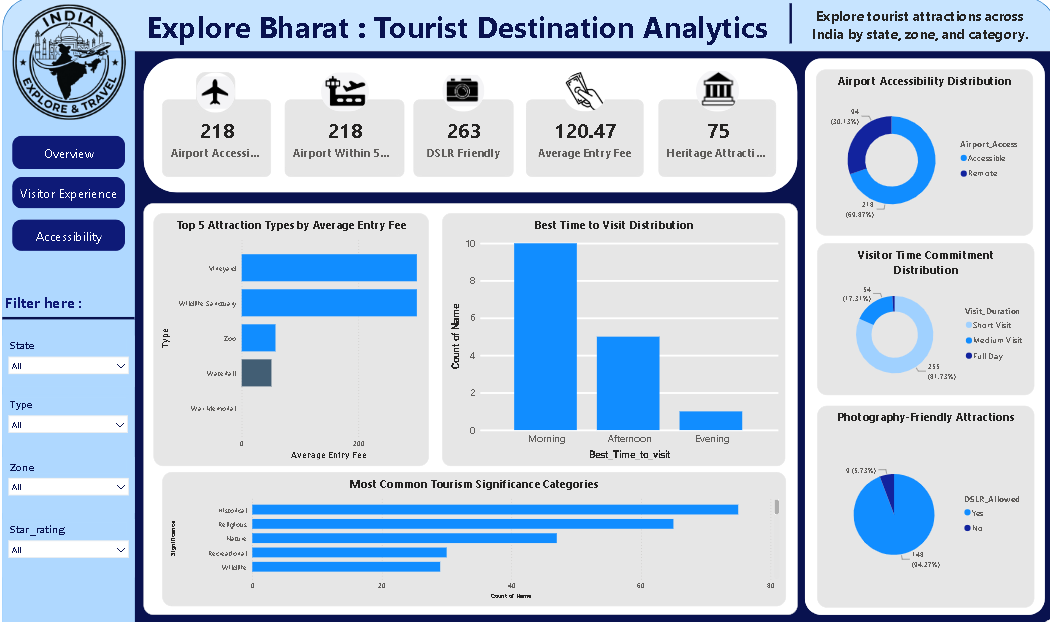

What the dashboard file says about the page in this screenshot:
{"tool":"powerbi","page":{"name":"Accessibility and Travel Insights ","canvas":[1730,1030],"ordinal":3},"visuals":[{"type":"shape","box":[9.6,0,1720.7,1029.2],"z":0},{"type":"shape","box":[9.6,88,1720.7,941.2],"z":1000},{"type":"shape","box":[240.1,100.8,1067.6,219.3],"z":2000,"group":"g1"},{"type":"shape","box":[1320.5,100.8,392.2,909.2],"z":2000},{"type":"shape","box":[240.1,337.7,1067.6,672.3],"z":3000},{"type":"shape","box":[9.6,88,216.1,941.2],"z":4000},{"type":"clusteredColumnChart","title":"Best Time to Visit Distribution","fields":{"Category":["Cleaned Dataset.Best_Time_to_visit"],"Y":["CountNonNull(Cleaned Dataset.Name)"]},"box":[728.3,352.1,560.2,413],"z":5000},{"type":"actionButton","box":[27.2,225.7,184.1,54.4],"z":6000},{"type":"actionButton","box":[25.6,294.5,184.1,51.2],"z":7000},{"type":"donutChart","title":"Airport Accessibility Distribution","fields":{"Y":["CountNonNull(Cleaned Dataset.Name)"],"Category":["Cleaned Dataset.Airport_Access"]},"box":[1338.1,117.5,354.4,271],"z":8000},{"type":"actionButton","box":[27.2,363.4,184.1,51.2],"z":9000},{"type":"barChart","title":"Top 5 Attraction Types by Average Entry Fee","fields":{"Category":["Cleaned Dataset.Type"],"Y":["Cleaned Dataset.Average Entry Fee"]},"box":[257.7,352.1,449.8,413],"z":10000},{"type":"shape","box":[9.6,457.8,216.1,134.5],"z":11000},{"type":"textbox","box":[240.1,11.2,1120.5,76.8],"z":12000,"group":"g2"},{"type":"pieChart","title":"Photography-Friendly Attractions","fields":{"Y":["CountNonNull(Cleaned Dataset.Name)"],"Category":["Cleaned Dataset.DSLR_Allowed"]},"box":[1340,667.1,354.4,329.8],"z":12000},{"type":"textbox","box":[1307.7,11.2,401.8,76.8],"z":13000,"group":"g2"},{"type":"textbox","box":[9.6,477,230.5,48],"z":13000},{"type":"shape","box":[1272.5,11.2,48,65.6],"z":14000,"group":"g2"},{"type":"slicer","fields":{"Values":["Cleaned Dataset.State"]},"box":[9.6,552.2,216.1,83.2],"z":14000},{"type":"group","id":"g1","title":"Group 2","box":[240.1,100.8,1067.6,219.3],"z":15000},{"type":"cardVisual","fields":{"Data":["Cleaned Dataset.Airport Accessible"]},"box":[270.5,168,177.7,126.5],"z":15000,"group":"g1"},{"type":"cardVisual","fields":{"Data":["Cleaned Dataset.Airport Within 50 KM"]},"box":[470.6,168,195.3,126.5],"z":16000,"group":"g1"},{"type":"slicer","fields":{"Values":["Cleaned Dataset.Type"]},"box":[11.2,649.9,214.5,81.6],"z":16000},{"type":"group","id":"g2","title":"Group 3","box":[240.1,11.2,1469.4,76.8],"z":17000},{"type":"cardVisual","fields":{"Data":["Cleaned Dataset.DSLR Friendly"]},"box":[681.9,168,163.3,126.5],"z":17000,"group":"g1"},{"type":"cardVisual","fields":{"Data":["Cleaned Dataset.Average Entry Fee"]},"box":[864.4,168,192.1,126.5],"z":18000,"group":"g1"},{"type":"slicer","fields":{"Values":["Cleaned Dataset.Zone"]},"box":[9.6,750.7,216.1,91.2],"z":18000},{"type":"cardVisual","fields":{"Data":["Cleaned Dataset.Heritage Attractions"]},"box":[1080.4,168,192.1,126.5],"z":19000,"group":"g1"},{"type":"donutChart","title":"Visitor Time Commitment Distribution","fields":{"Category":["Cleaned Dataset.Visit_Duration"],"Y":["CountNonNull(Cleaned Dataset.Name)"]},"box":[1340,401.8,354.4,248.3],"z":19000},{"type":"image","box":[326.4,123.5,64,67.2],"z":20000,"group":"g1"},{"type":"barChart","title":"Most Common Tourism Significance Categories","fields":{"Y":["CountNonNull(Cleaned Dataset.Name)"],"Category":["Cleaned Dataset.Significance"]},"box":[270.5,776.3,1018,219.3],"z":20000},{"type":"image","box":[4.8,4.8,228.9,206.5],"z":21000},{"type":"image","box":[529.8,123.2,78.4,64],"z":21000,"group":"g1"},{"type":"image","box":[728.3,118.4,68.8,68.8],"z":22000,"group":"g1"},{"type":"slicer","fields":{"Values":["Cleaned Dataset.Star_rating"]},"box":[9.6,853.2,216.1,94.4],"z":22000},{"type":"image","box":[925.2,123.2,70.4,64],"z":23000,"group":"g1"},{"type":"image","box":[1141.3,118.4,70.4,68.8],"z":24000,"group":"g1"}]}

Visuals, with their boxes in screenshot pixels (x1, y1, x2, y2), scaled from the page's 1730x1030 canvas onto the 1050x622 screenshot:
shape: Rect(6, 0, 1049, 621)
shape: Rect(6, 53, 1049, 621)
shape: Rect(146, 61, 794, 193)
shape: Rect(801, 61, 1040, 610)
shape: Rect(146, 204, 794, 610)
shape: Rect(6, 53, 137, 621)
"Best Time to Visit Distribution" clusteredColumnChart: Rect(442, 213, 782, 462)
actionButton: Rect(17, 136, 128, 169)
actionButton: Rect(16, 178, 127, 209)
"Airport Accessibility Distribution" donutChart: Rect(812, 71, 1027, 235)
actionButton: Rect(17, 219, 128, 250)
"Top 5 Attraction Types by Average Entry Fee" barChart: Rect(156, 213, 429, 462)
shape: Rect(6, 276, 137, 358)
textbox: Rect(146, 7, 826, 53)
"Photography-Friendly Attractions" pieChart: Rect(813, 403, 1028, 602)
textbox: Rect(794, 7, 1038, 53)
textbox: Rect(6, 288, 146, 317)
shape: Rect(772, 7, 801, 46)
slicer - Cleaned Dataset.State: Rect(6, 333, 137, 384)
"Group 2" group: Rect(146, 61, 794, 193)
cardVisual - Cleaned Dataset.Airport Accessible: Rect(164, 101, 272, 178)
cardVisual - Cleaned Dataset.Airport Within 50 KM: Rect(286, 101, 404, 178)
slicer - Cleaned Dataset.Type: Rect(7, 392, 137, 442)
"Group 3" group: Rect(146, 7, 1038, 53)
cardVisual - Cleaned Dataset.DSLR Friendly: Rect(414, 101, 513, 178)
cardVisual - Cleaned Dataset.Average Entry Fee: Rect(525, 101, 641, 178)
slicer - Cleaned Dataset.Zone: Rect(6, 453, 137, 508)
cardVisual - Cleaned Dataset.Heritage Attractions: Rect(656, 101, 772, 178)
"Visitor Time Commitment Distribution" donutChart: Rect(813, 243, 1028, 393)
image: Rect(198, 75, 237, 115)
"Most Common Tourism Significance Categories" barChart: Rect(164, 469, 782, 601)
image: Rect(3, 3, 142, 128)
image: Rect(322, 74, 369, 113)
image: Rect(442, 71, 484, 113)
slicer - Cleaned Dataset.Star_rating: Rect(6, 515, 137, 572)
image: Rect(562, 74, 604, 113)
image: Rect(693, 71, 735, 113)
